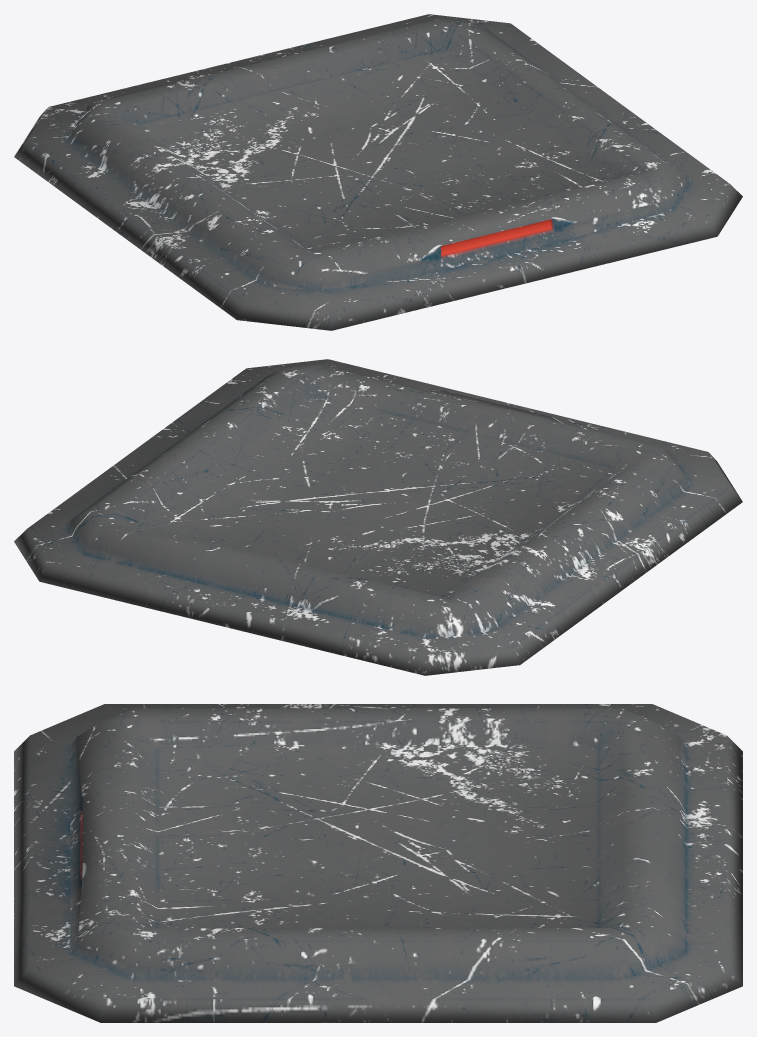
The model's file is Przycisk_inactive.glb.
3 views of the same model, one above another, from view 1: azimuth 30°, elevation 25°; view 2: azimuth 150°, elevation 25°; view 3: azimuth 270°, elevation 25° (orthographic). The views are drawn at different scales.
Parts seen in each view (by area): view 1: Cube.006; view 2: Cube.006; view 3: Cube.006.
Boxes of the visible parts, box(x1,y1,x2,y2) form: Cube.006: box(14, 14, 742, 330); Cube.006: box(14, 359, 742, 675); Cube.006: box(14, 704, 742, 1022).
Bounding box in the file's own units: 2 × 0.1344 × 2.
Materials: 1 (1 with a texture image).
